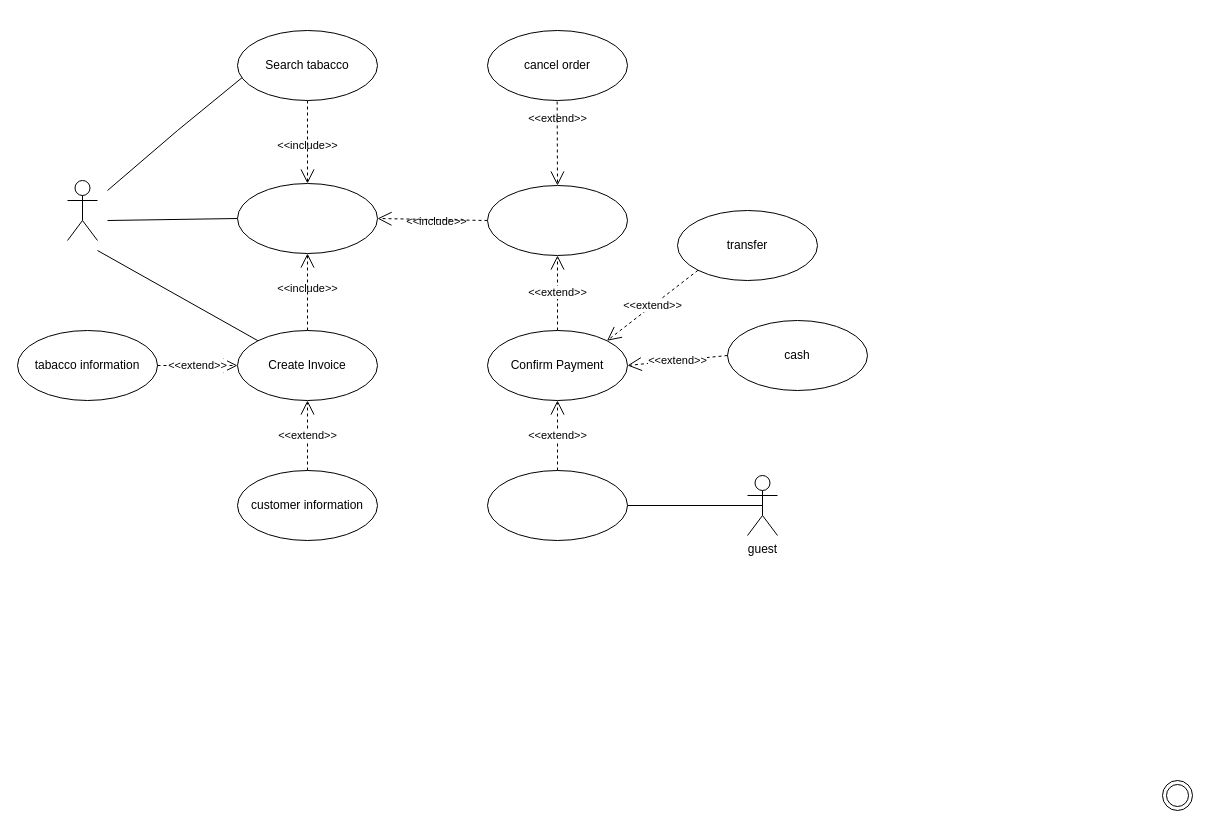
Image size: 1210x828. Some labels were removed from this diagram. Each missing label, with the centre of its shape:
export invoice: point (557, 505)
login: point (307, 218)
Payment: point (557, 220)
sale: point (82, 210)
